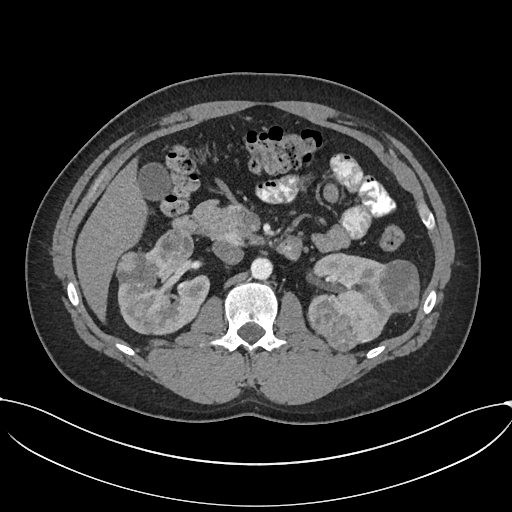Lesion: (372, 259, 422, 316), (113, 249, 155, 294)
